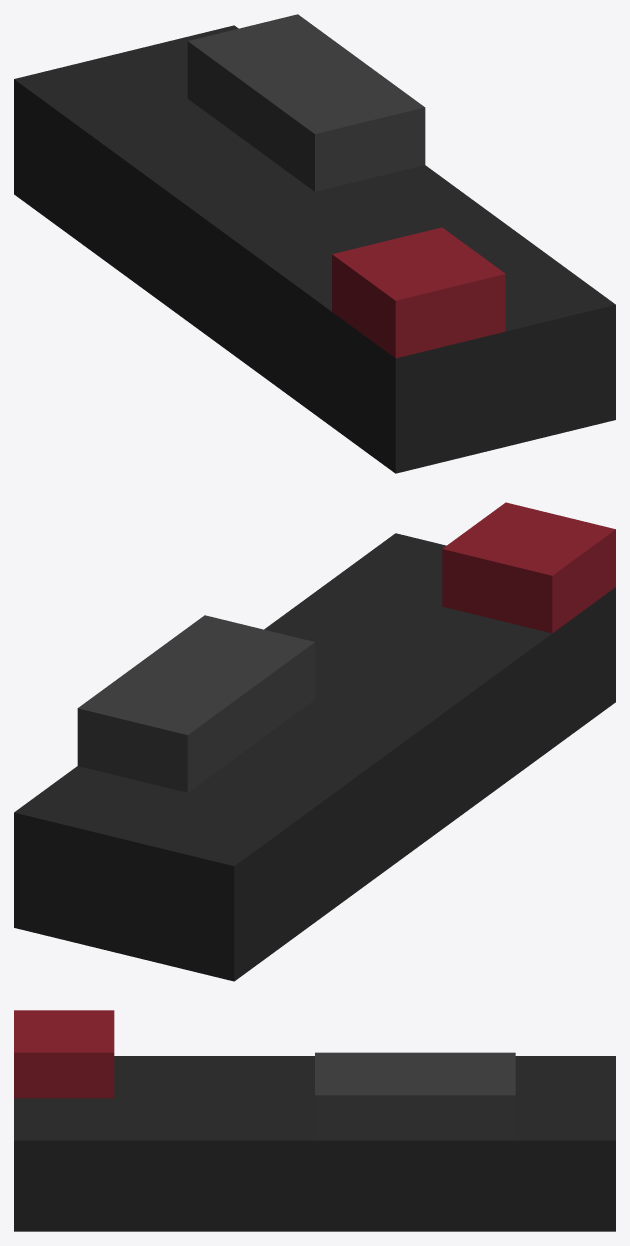
Rendered from TVRemote.fbx.
The picture shows the model from 3 angles, top to bottom: view 1: azimuth 30°, elevation 25°; view 2: azimuth 150°, elevation 25°; view 3: azimuth 270°, elevation 25°; orthographic projection. The views are drawn at different scales.
Parts seen in each view (by area): view 1: cube, cube_1, cube_2; view 2: cube, cube_1, cube_2; view 3: cube, cube_1, cube_2.
Boxes of the visible parts, box(x1,y1,x2,y2) form: cube: box(14, 25, 615, 473); cube_1: box(187, 14, 425, 191); cube_2: box(332, 227, 505, 358); cube: box(14, 533, 615, 981); cube_1: box(77, 615, 314, 792); cube_2: box(442, 502, 615, 633); cube: box(14, 1056, 615, 1231); cube_1: box(315, 1052, 515, 1140); cube_2: box(14, 1010, 114, 1098).
Bounding box in the file's own units: 12.5 × 9.38 × 37.5.
Materials: 1 (1 with a texture image).
